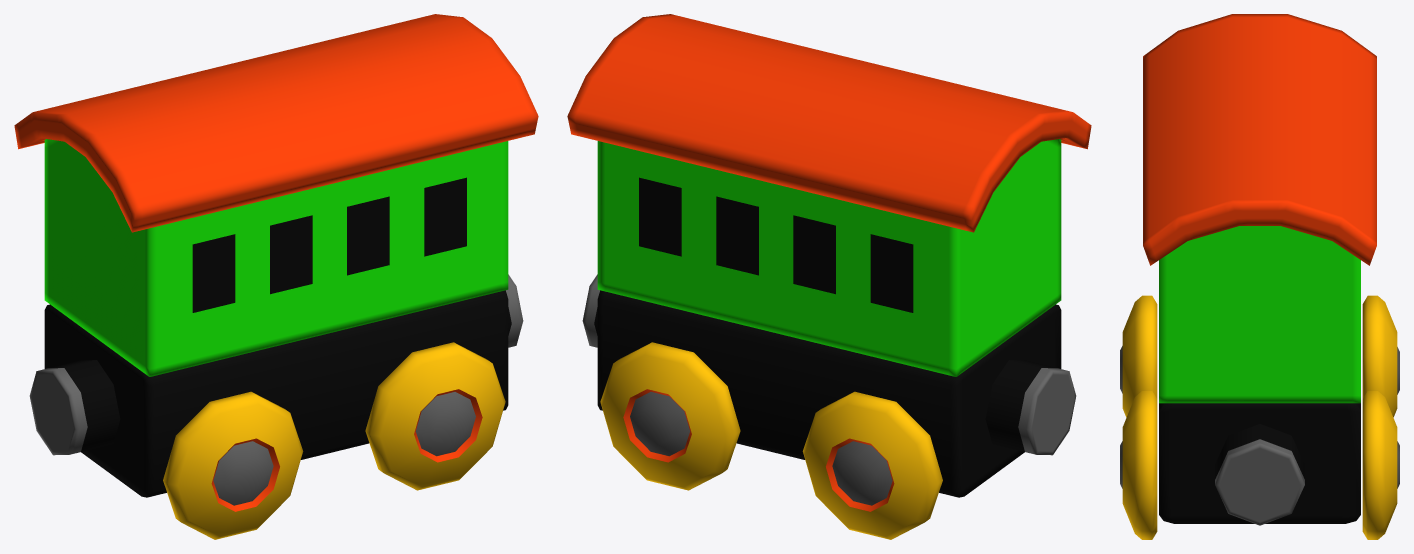
The model's file is train_passenger_car_01.FBX.
3 views of the same model, side by side, from view 1: azimuth 30°, elevation 25°; view 2: azimuth 150°, elevation 25°; view 3: azimuth 270°, elevation 25° (orthographic). The views are drawn at different scales.
Parts seen in each view (by area): view 1: train_passenger_car_01; view 2: train_passenger_car_01; view 3: train_passenger_car_01.
Part boxes in pixels (x1,y1,x2,y2): train_passenger_car_01: (14,14,538,539); train_passenger_car_01: (567,14,1091,539); train_passenger_car_01: (1120,14,1399,539).
Bounding box in the file's own units: 717 × 595 × 404.
